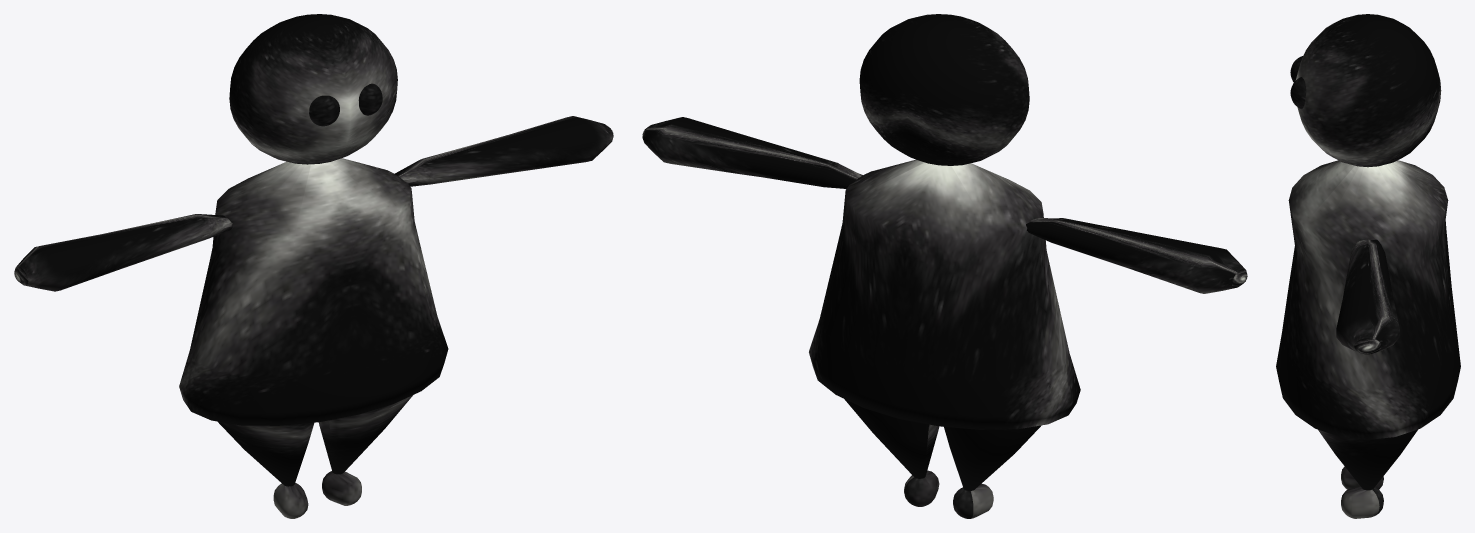
The model's file is atierbu_with_skeleton.fbx.
3 renders of one model, left to right at view 1: azimuth 30°, elevation 25°; view 2: azimuth 150°, elevation 25°; view 3: azimuth 270°, elevation 25°, orthographic.
Parts seen in each view (by area): view 1: Character2; view 2: Character2; view 3: Character2.
Part boxes in pixels (left/top/right/bottom): Character2: left=14, top=14, right=613, bottom=518; Character2: left=642, top=14, right=1247, bottom=518; Character2: left=1276, top=14, right=1460, bottom=518.
Bounding box in the file's own units: 87.78 × 68.74 × 23.95.
1 material, 1 textured.
